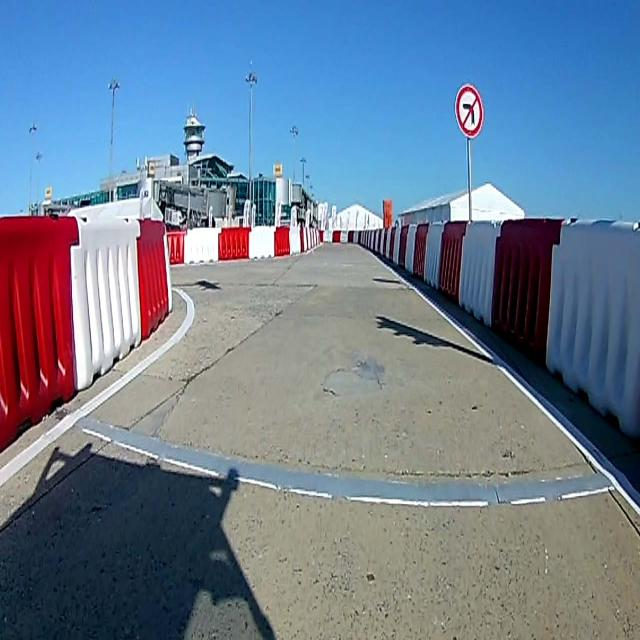soladonulmez: (456, 86, 482, 137)
